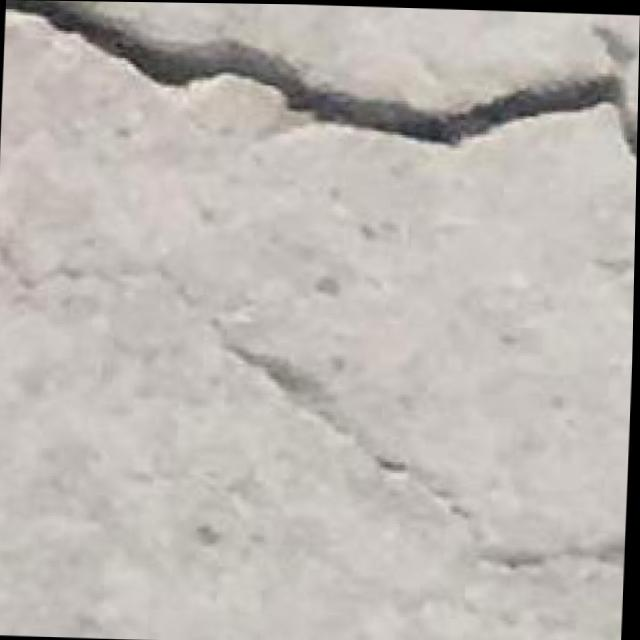Crack: (0, 0, 640, 170)
